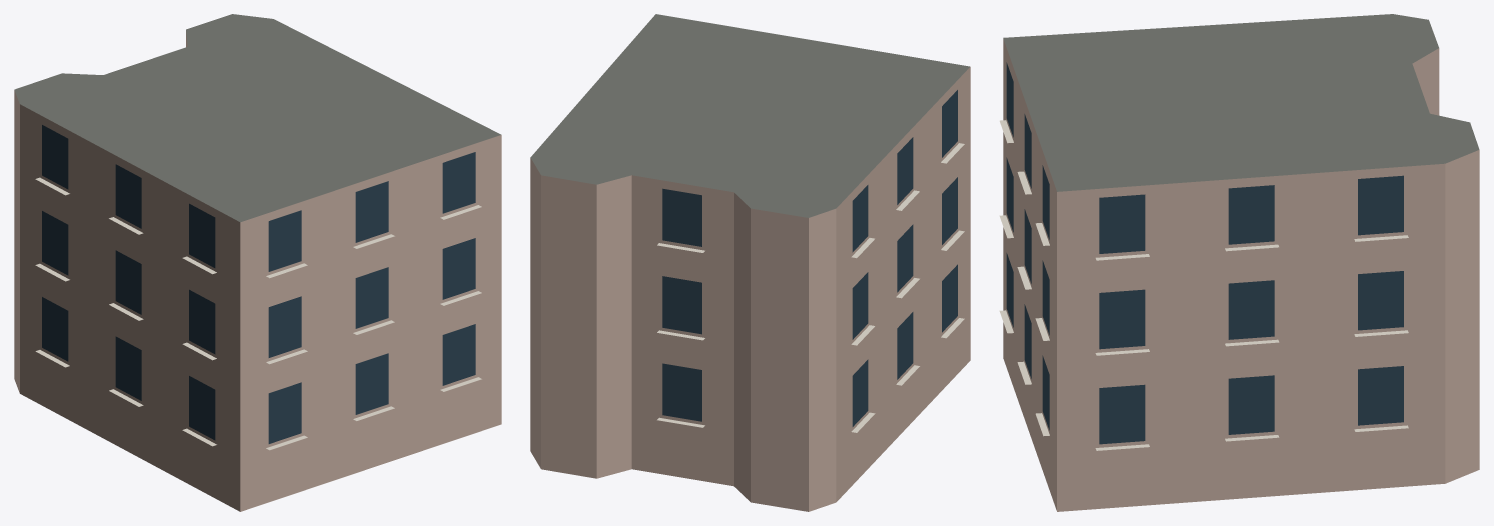
The picture shows the model from 3 angles, left to right: view 1: azimuth 30°, elevation 25°; view 2: azimuth 150°, elevation 25°; view 3: azimuth 270°, elevation 25°; orthographic projection. The views are drawn at different scales.
Parts seen in each view (by area): view 1: Footprint 0, Inferred window bays, Window sills; view 2: Footprint 0, Inferred window bays, Window sills; view 3: Footprint 0, Inferred window bays, Window sills.
Part boxes in pixels (x1,y1,x2,y2): Footprint 0: [14, 14, 501, 511]; Inferred window bays: [42, 125, 475, 443]; Window sills: [35, 177, 481, 450]; Footprint 0: [530, 14, 970, 511]; Inferred window bays: [662, 90, 957, 426]; Window sills: [657, 143, 964, 432]; Footprint 0: [1003, 14, 1479, 511]; Inferred window bays: [1006, 62, 1403, 444]; Window sills: [999, 120, 1408, 450].
Size of the model in its own units: 11.32 by 9.38 by 12.75.
